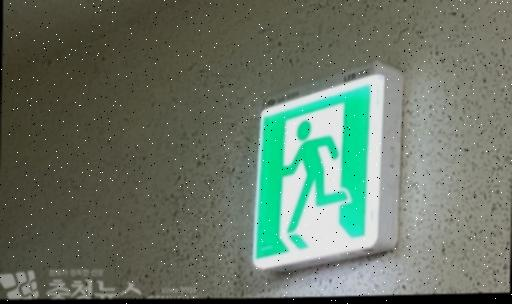emergency_exit: (251, 63, 404, 272)
